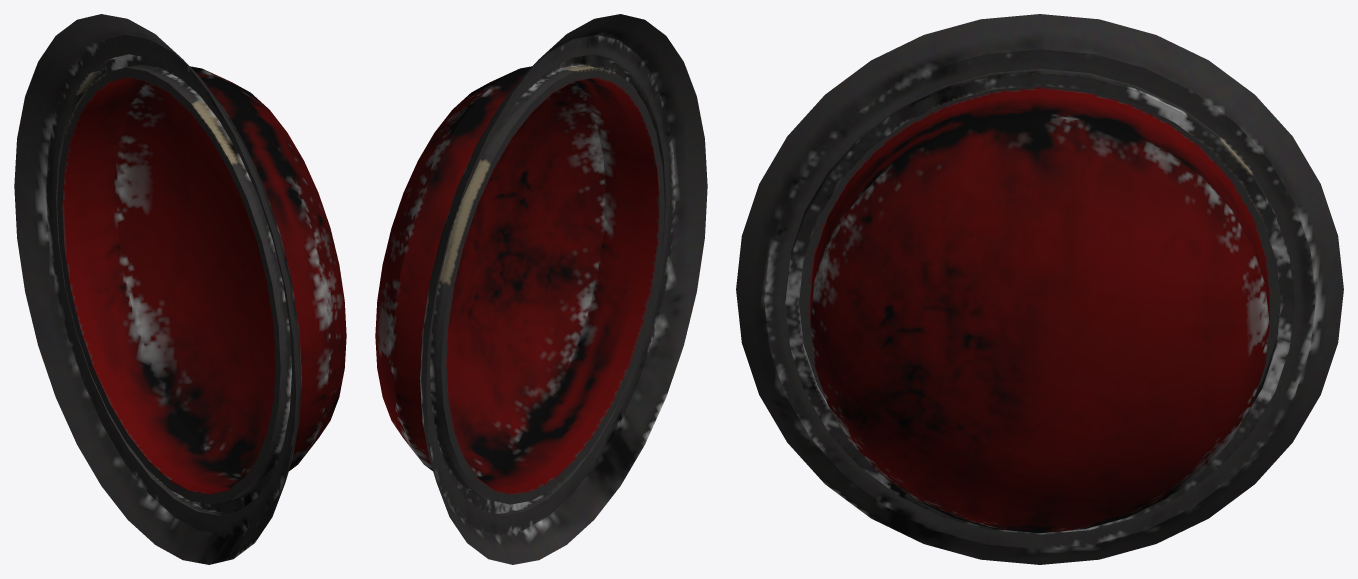
File: dynamo_button.fbx
3 renders of one model, left to right at view 1: azimuth 30°, elevation 25°; view 2: azimuth 150°, elevation 25°; view 3: azimuth 270°, elevation 25°, orthographic. The views are drawn at different scales.
Parts seen in each view (by area): view 1: dynamo_button; view 2: dynamo_button; view 3: dynamo_button.
Boxes of the visible parts, x1,y1,x2,y2 form: dynamo_button: (14, 14, 346, 564); dynamo_button: (375, 14, 707, 564); dynamo_button: (736, 14, 1343, 564).
Bounding box in the file's own units: 7.98 × 29.17 × 29.17.
1 material, 1 textured.
